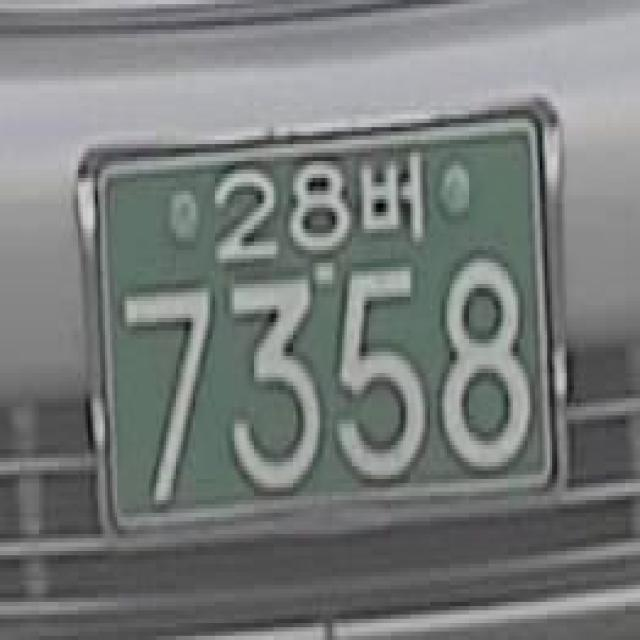illegal_plate: (70, 99, 580, 566)
